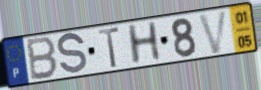8: (170, 16, 198, 59)
B: (26, 35, 60, 83)
H: (125, 20, 164, 68)
S: (56, 31, 89, 77)
T: (97, 25, 121, 70)
V: (196, 8, 230, 56)
